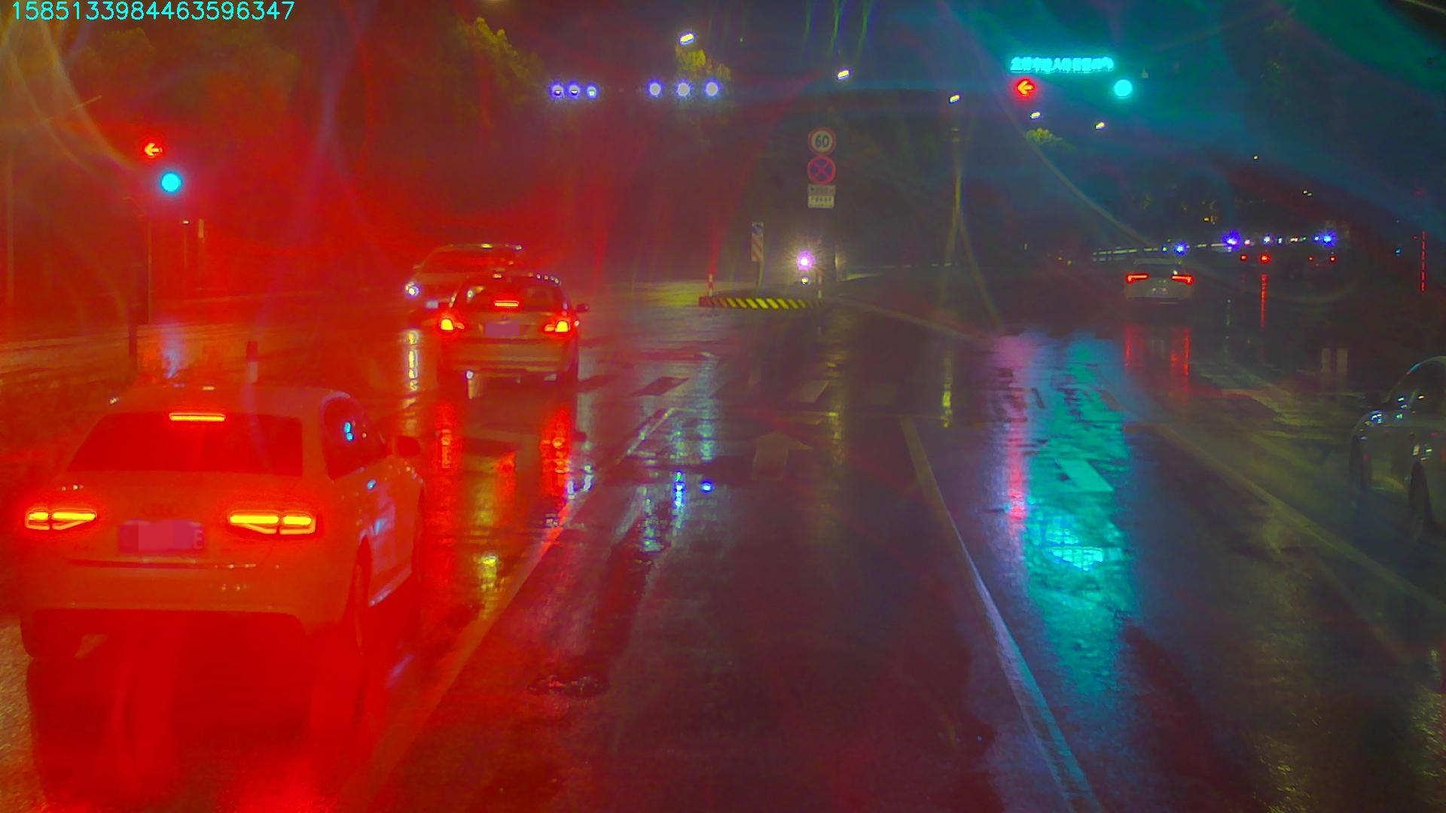green: (1112, 73, 1136, 99)
red: (1013, 75, 1032, 99)
wait_on: (1006, 52, 1116, 72)
